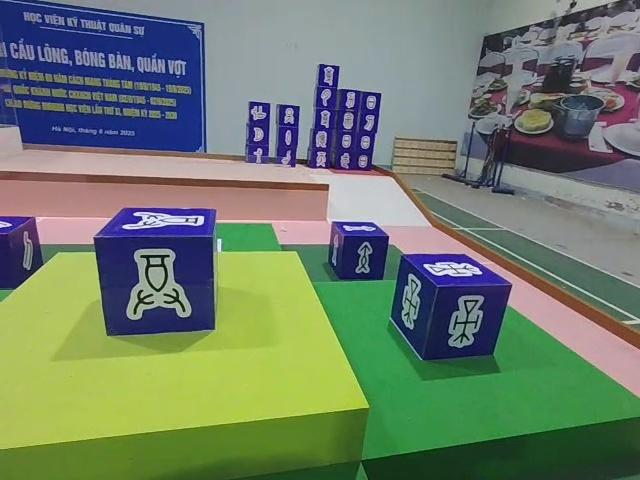R2 Real Blue: (94, 209, 219, 339), (393, 256, 514, 365), (328, 223, 389, 284), (0, 218, 42, 293)
